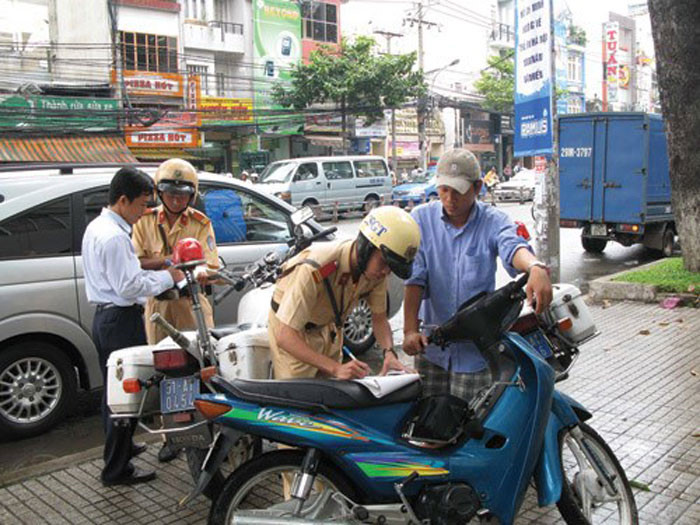police: (125, 151, 424, 510)
